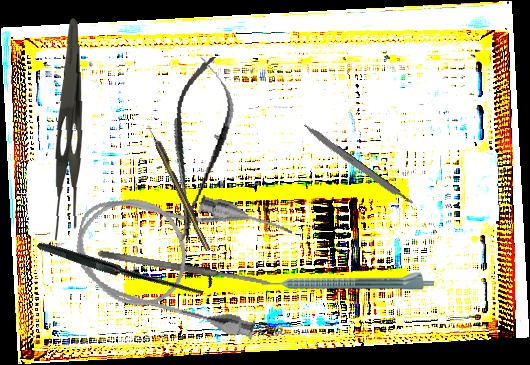Cannula: (63, 167, 296, 344)
Dressing Forceps: (43, 17, 88, 243)
Handpiece: (262, 270, 434, 290)
Hook Surgical: (36, 174, 216, 355), (145, 123, 212, 252)
Micro Scissor: (151, 51, 244, 247)
Scalpel Handle: (301, 122, 415, 209)
Spatula Surgical: (97, 248, 273, 289)
